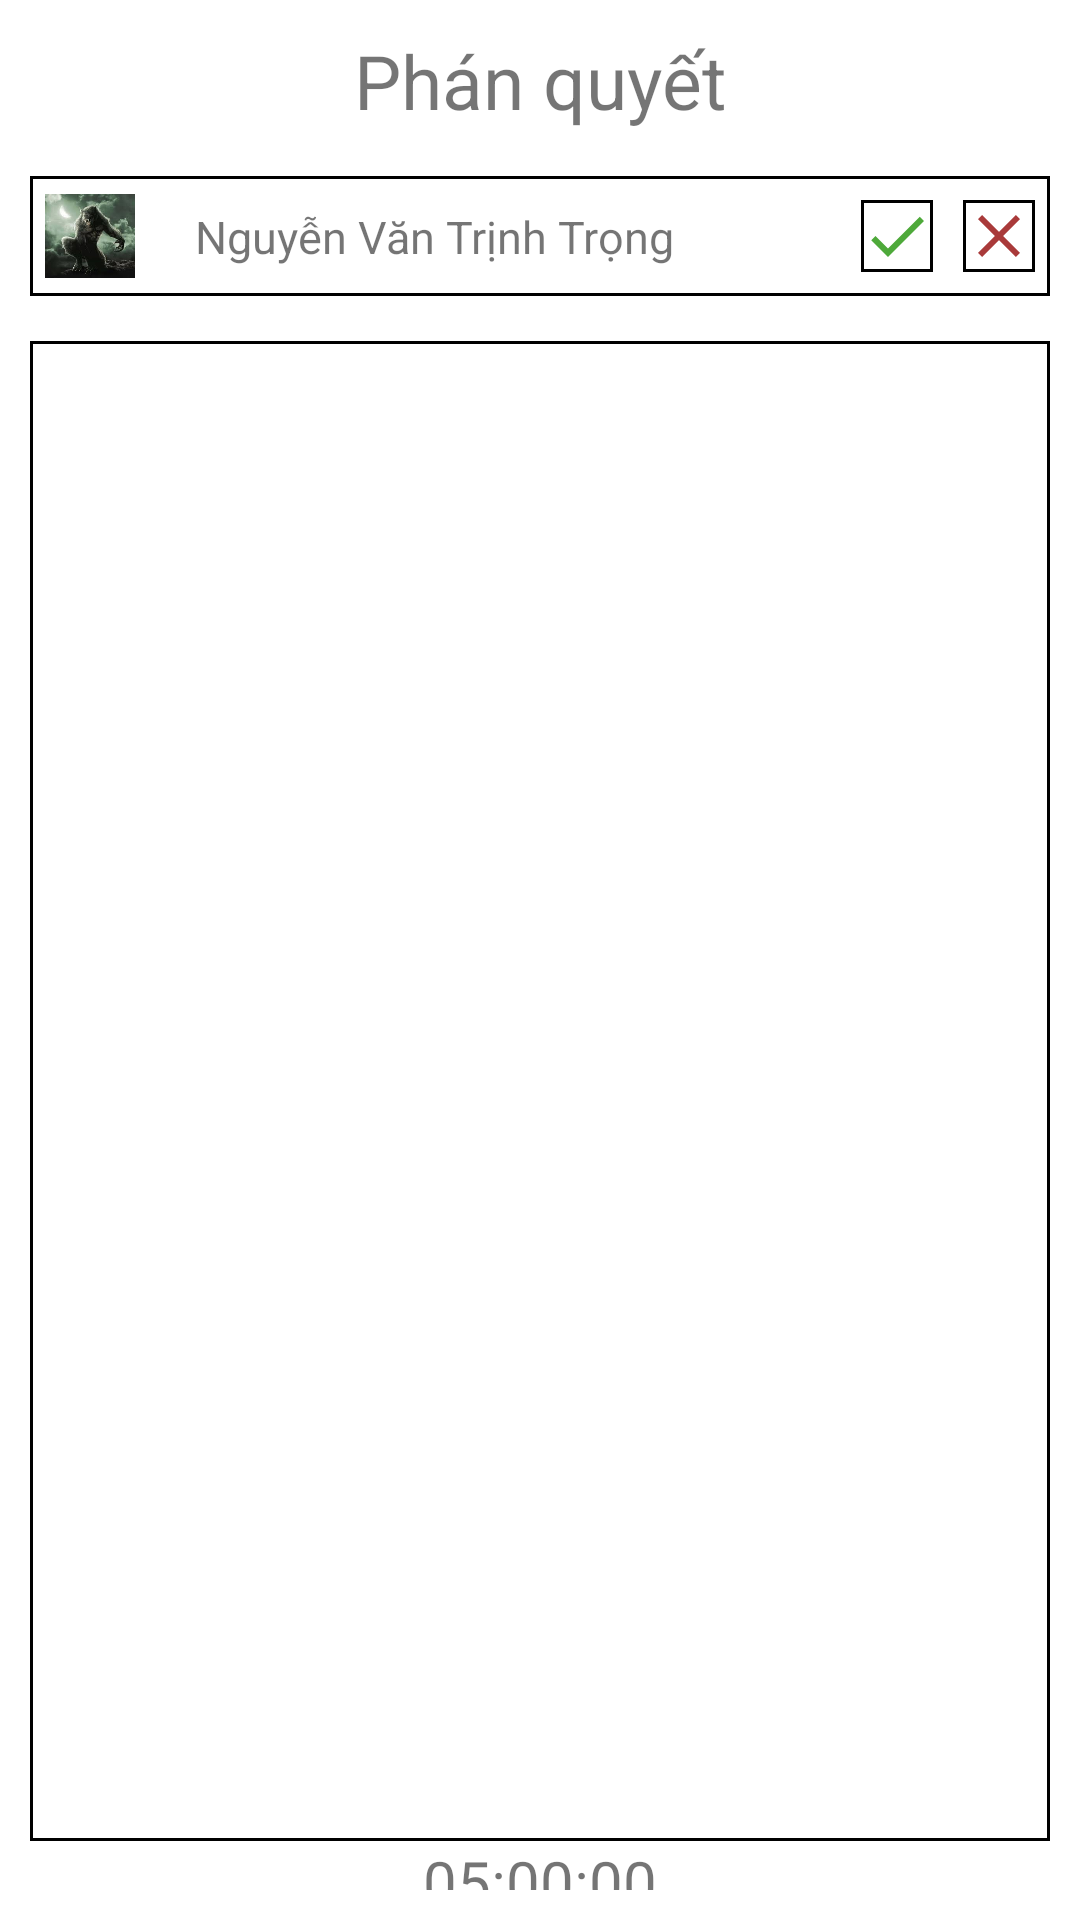

Where to tap for icons on this 1080×1920 app screen, as (x,y):
yes: (897,236)
